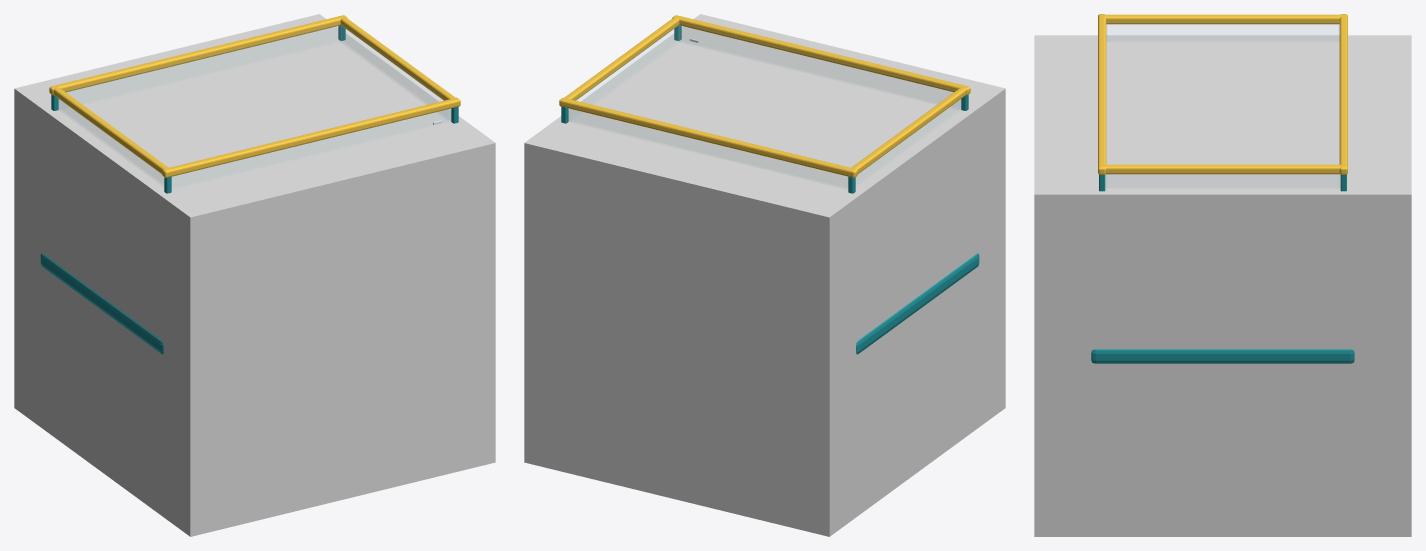
Rendered from submerged_plant_tank_finalnew.glb.
3 views of the same model, side by side, from view 1: azimuth 30°, elevation 25°; view 2: azimuth 150°, elevation 25°; view 3: azimuth 270°, elevation 25° (orthographic). The views are drawn at different scales.
Visible parts, largest first — view 1: Cube.001, GlassWall.001, GlassWall, Rim.004, Rim.005, DisplayBase, GlassWall.003, Rim.006, Rim.007, GlassWall.002; view 2: Cube.001, GlassWall, GlassWall.001, Rim.005, Rim.004, DisplayBase, GlassWall.003, Rim.006, Rim.007, GlassWall.002; view 3: Cube.001, DisplayBase, GlassWall.002, GlassWall.003, Rim.007, Rim.006, Rim.004, Rim.005.
Part boxes in pixels (x1=…): Cube.001: x1=14, y1=14, x2=495, y2=536; GlassWall.001: x1=59, y1=26, x2=340, y2=108; GlassWall: x1=172, y1=109, x2=450, y2=187; Rim.004: x1=162, y1=97, x2=460, y2=177; Rim.005: x1=49, y1=15, x2=347, y2=95; DisplayBase: x1=40, y1=253, x2=163, y2=354; GlassWall.003: x1=340, y1=25, x2=450, y2=119; Rim.006: x1=53, y1=87, x2=168, y2=173; Rim.007: x1=340, y1=16, x2=455, y2=100; GlassWall.002: x1=59, y1=100, x2=163, y2=183; Cube.001: x1=524, y1=14, x2=1005, y2=536; GlassWall: x1=679, y1=26, x2=960, y2=108; GlassWall.001: x1=569, y1=109, x2=847, y2=187; Rim.005: x1=559, y1=97, x2=857, y2=177; Rim.004: x1=672, y1=15, x2=970, y2=95; DisplayBase: x1=856, y1=253, x2=979, y2=354; GlassWall.003: x1=569, y1=25, x2=679, y2=119; Rim.006: x1=851, y1=87, x2=966, y2=173; Rim.007: x1=564, y1=16, x2=679, y2=100; GlassWall.002: x1=856, y1=100, x2=960, y2=183; Cube.001: x1=1034, y1=35, x2=1411, y2=536; DisplayBase: x1=1091, y1=349, x2=1354, y2=363; GlassWall.002: x1=1107, y1=24, x2=1338, y2=40; GlassWall.003: x1=1106, y1=175, x2=1339, y2=187; Rim.007: x1=1102, y1=164, x2=1342, y2=174; Rim.006: x1=1103, y1=14, x2=1342, y2=24; Rim.004: x1=1098, y1=14, x2=1106, y2=174; Rim.005: x1=1339, y1=14, x2=1347, y2=174.
Bounding box in the file's own units: 2.02 × 2.14 × 2.
